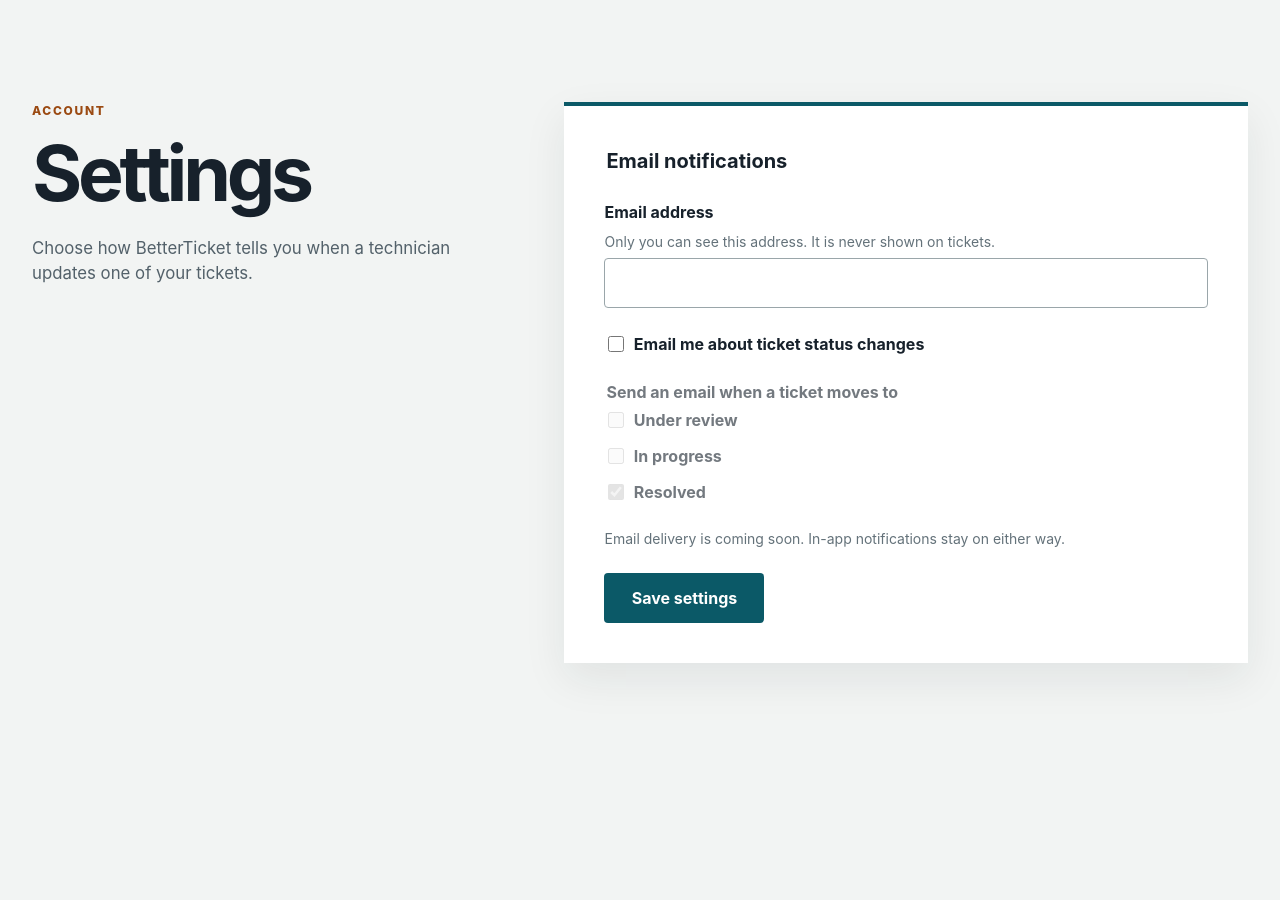
it: SettingsPage › asks for an email address before turning on email updates
Click the checkbox labelled "Email me about ticket status changes": coordinates (616, 344) [608,336,624,352]
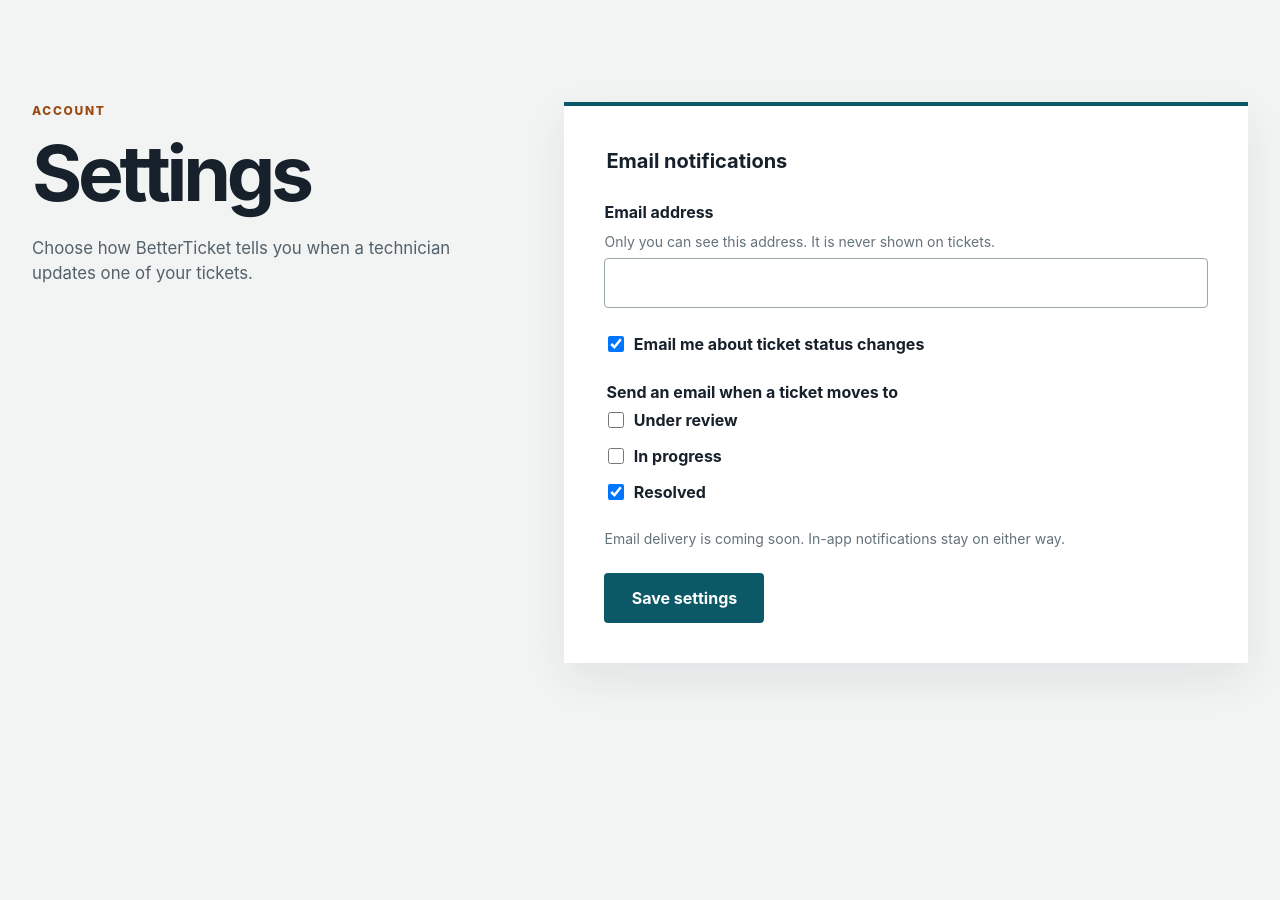
Click the button "Save settings": coordinates (684, 598) [604,573,764,623]
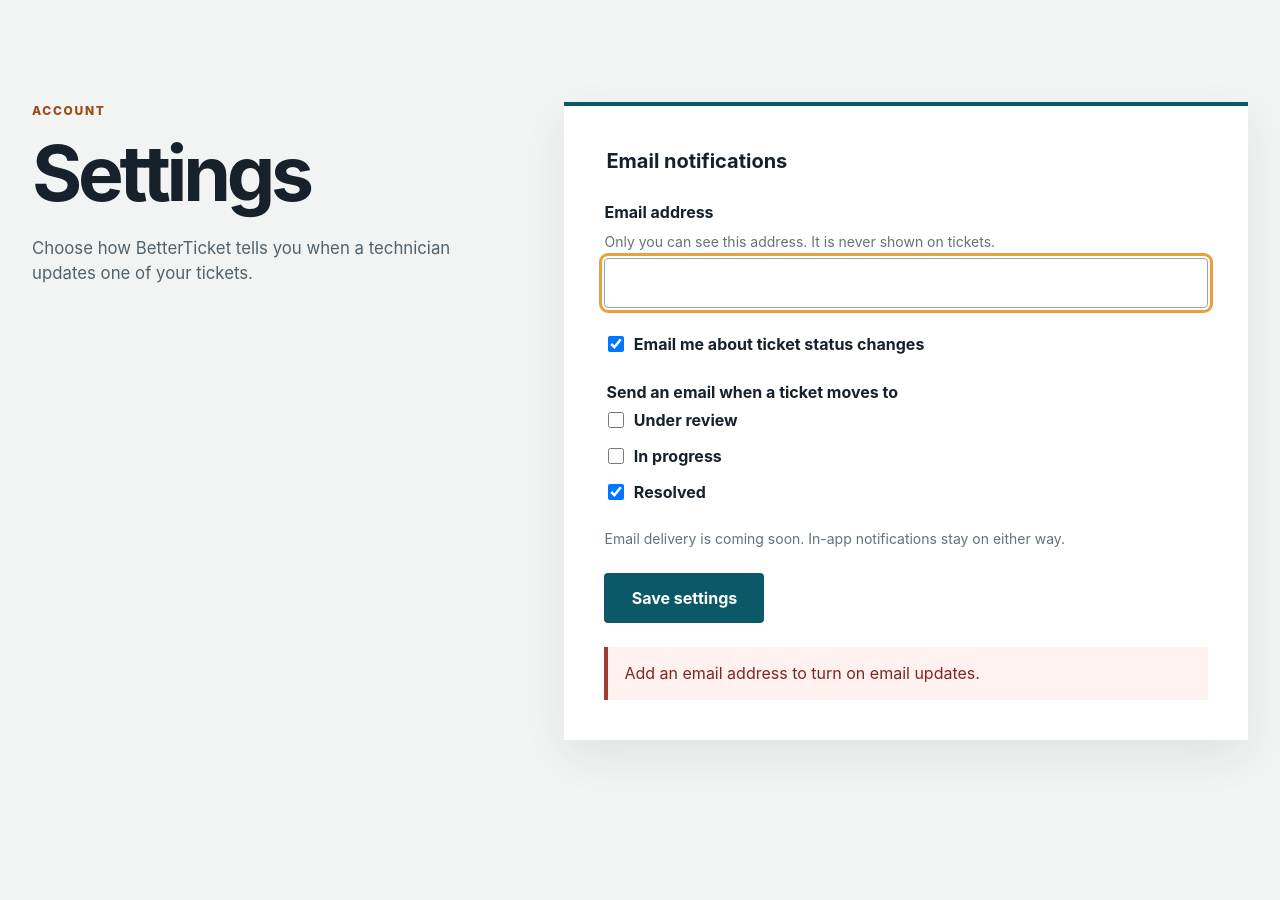
Now the message shows "Add an email address", box [624,663,980,683]
